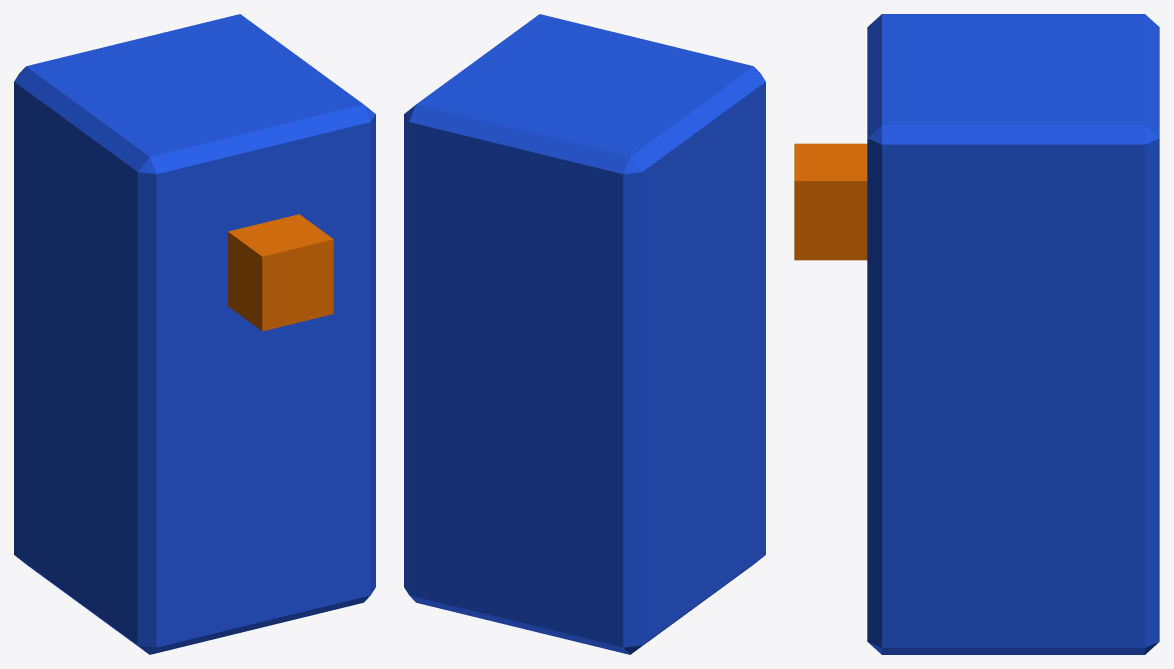
The model's file is player.fbx.
The picture shows the model from 3 angles, left to right: view 1: azimuth 30°, elevation 25°; view 2: azimuth 150°, elevation 25°; view 3: azimuth 270°, elevation 25°; orthographic projection. The views are drawn at different scales.
Parts seen in each view (by area): view 1: pCube1, pCube2; view 2: pCube1; view 3: pCube1, pCube2.
Part boxes in pixels (x1,y1,x2,y2): pCube1: (14, 14, 375, 654); pCube2: (228, 214, 333, 331); pCube1: (404, 14, 765, 654); pCube1: (867, 14, 1159, 654); pCube2: (794, 143, 867, 260).
Bounding box in the file's own units: 1 × 2 × 1.25.
